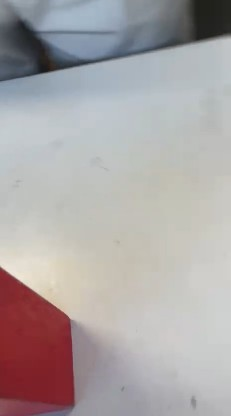red: (0, 255, 110, 402)
